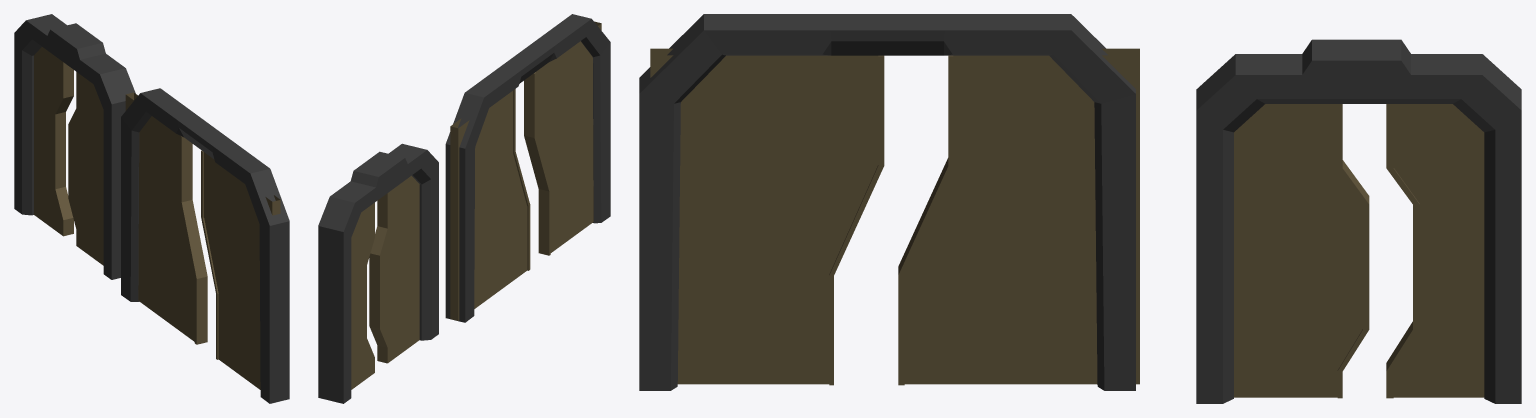
The model's file is SM_Door_Door_St1_BLOKING.fbx.
3 views of the same model, side by side, from view 1: azimuth 30°, elevation 25°; view 2: azimuth 150°, elevation 25°; view 3: azimuth 270°, elevation 25° (orthographic). The views are drawn at different scales.
Parts seen in each view (by area): view 1: SM_WallDoor_4x4.001, SM_WallDoor_Big_4x4, SM_WallDoor_3x4.001, SM_WallDoor_4x4.002, Cube.001, Cube; view 2: SM_WallDoor_3x4.001, SM_WallDoor_4x4.001, SM_WallDoor_4x4.002, SM_WallDoor_Big_4x4, Cube, Cube.001; view 3: SM_WallDoor_4x4.002, SM_WallDoor_Big_4x4, SM_WallDoor_4x4.001, SM_WallDoor_3x4.001, Cube, Cube.001.
Boxes of the visible parts, x1,y1,x2,y2 form: SM_WallDoor_4x4.001: (121,88,289,403); SM_WallDoor_Big_4x4: (125,92,207,344); SM_WallDoor_3x4.001: (14,14,135,279); SM_WallDoor_4x4.002: (201,150,280,389); Cube.001: (34,47,73,236); Cube: (68,72,103,265); SM_WallDoor_3x4.001: (318,143,438,403); SM_WallDoor_4x4.001: (445,14,610,322); SM_WallDoor_4x4.002: (524,21,601,255); SM_WallDoor_Big_4x4: (450,89,530,320); Cube: (369,175,419,363); Cube.001: (351,202,374,389); SM_WallDoor_4x4.002: (650,48,884,385); SM_WallDoor_Big_4x4: (898,48,1139,385); SM_WallDoor_4x4.001: (639,14,1135,390); SM_WallDoor_3x4.001: (1196,39,1521,403); Cube: (1234,104,1369,398); Cube.001: (1386,104,1484,398).
Bounding box in the file's own units: 53.54 × 319 × 705.
